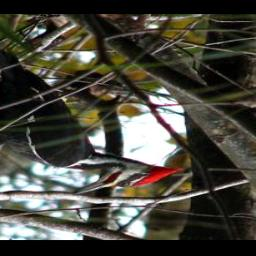Woodpecker: (0, 31, 182, 196)
